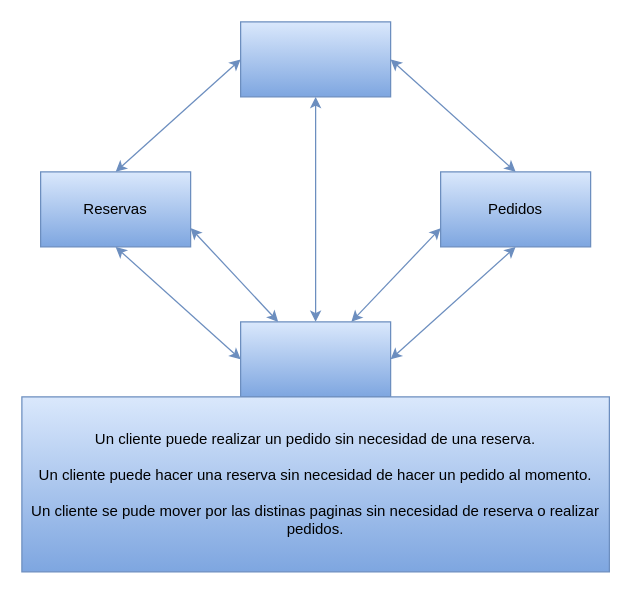
This 631x594 diagram has some shape labels left out. The box of each missing label's shape, as (x1, y1, x2, y2) in pixels:
Inicio: (239, 21, 391, 97)
sitemap.xml: (239, 321, 391, 397)
